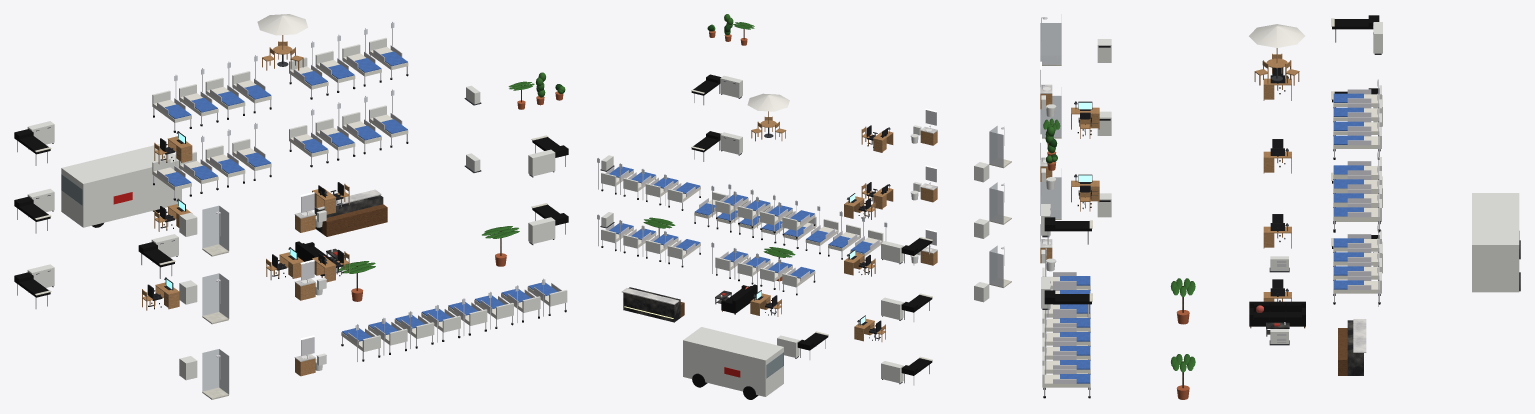
Rendered from i_hospital_general.gltf.
3 views of the same model, side by side, from view 1: azimuth 30°, elevation 25°; view 2: azimuth 150°, elevation 25°; view 3: azimuth 270°, elevation 25° (orthographic). The views are drawn at different scales.
Parts seen in each view (by area): view 1: I_hospital_general; view 2: I_hospital_general; view 3: I_hospital_general.
Boxes of the visible parts, <box> form: I_hospital_general: <box>14,14,568,399</box>; I_hospital_general: <box>597,14,1011,399</box>; I_hospital_general: <box>1040,14,1520,399</box>.
Size of the model in its own units: 21.91 by 13.05 by 20.31.
30 materials, 9 textured.
